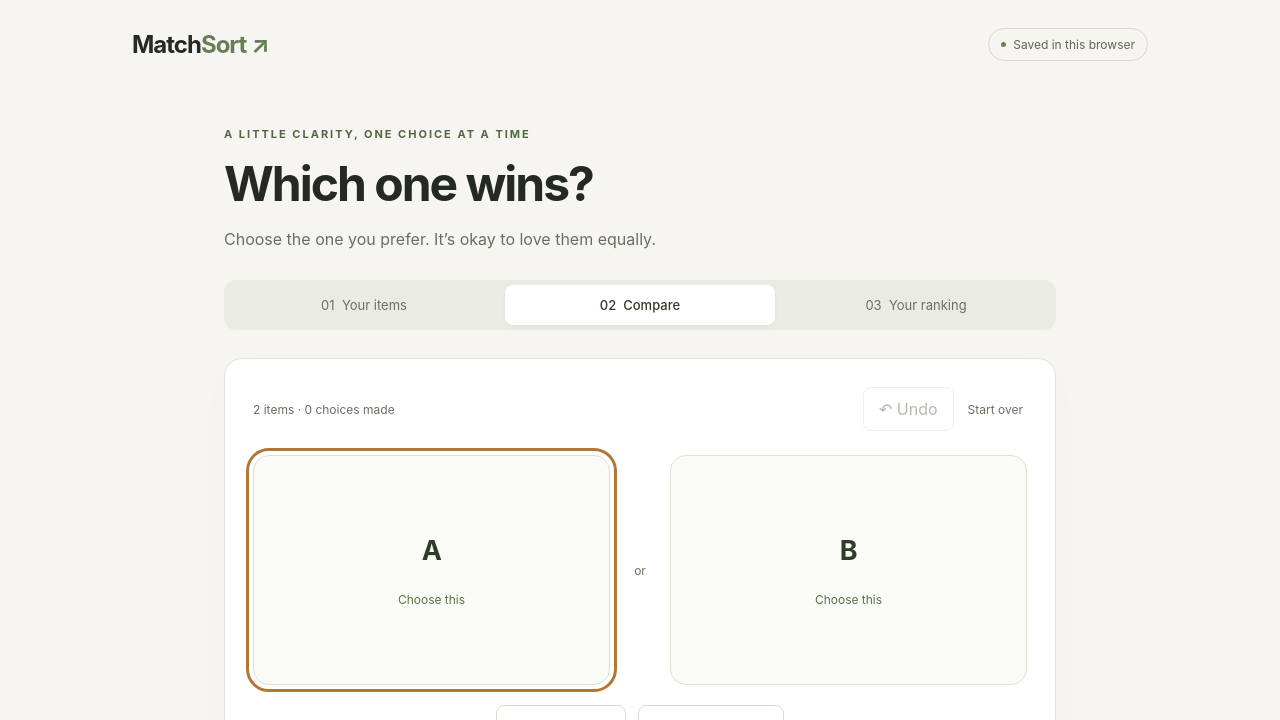
confirms restart, returns focus on cancel, and retains the editable list
The width and height of the screenshot is (1280, 720).
Click the button "Start over". click: x=995, y=409
box: [964,387,1027,431]
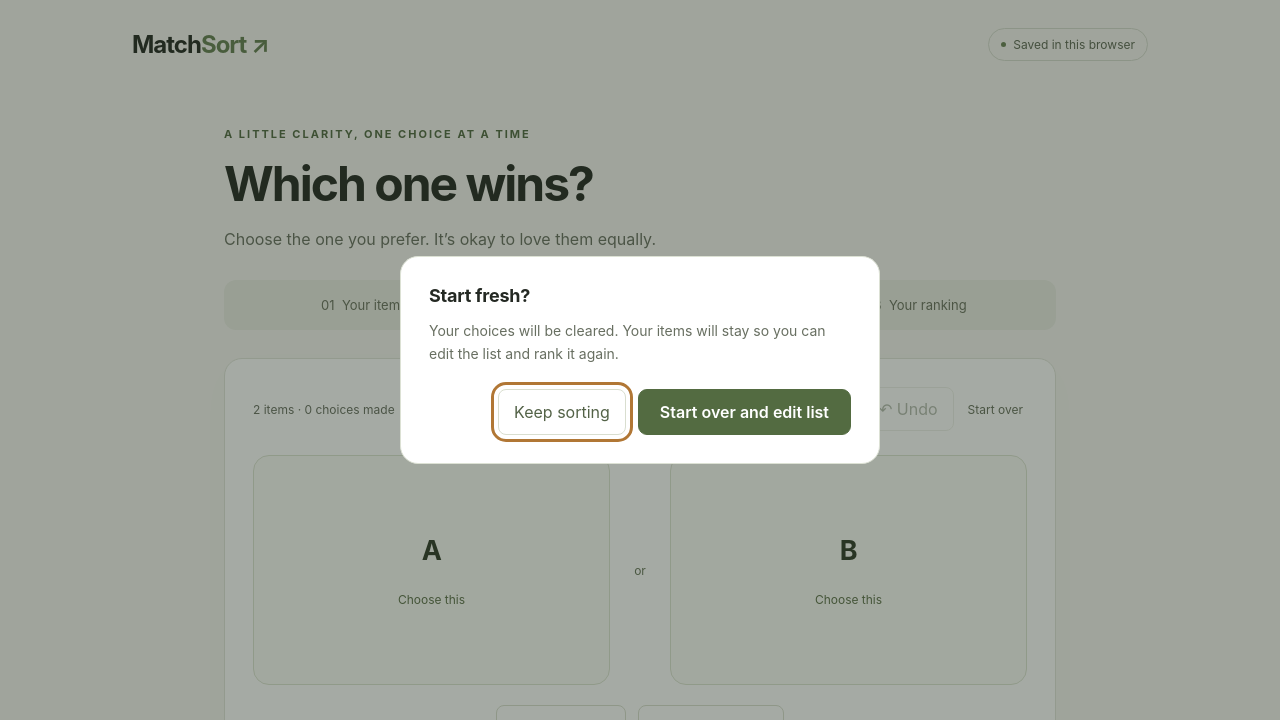
Expected: the dialog is shown, [400,256,880,464]
Press Escape
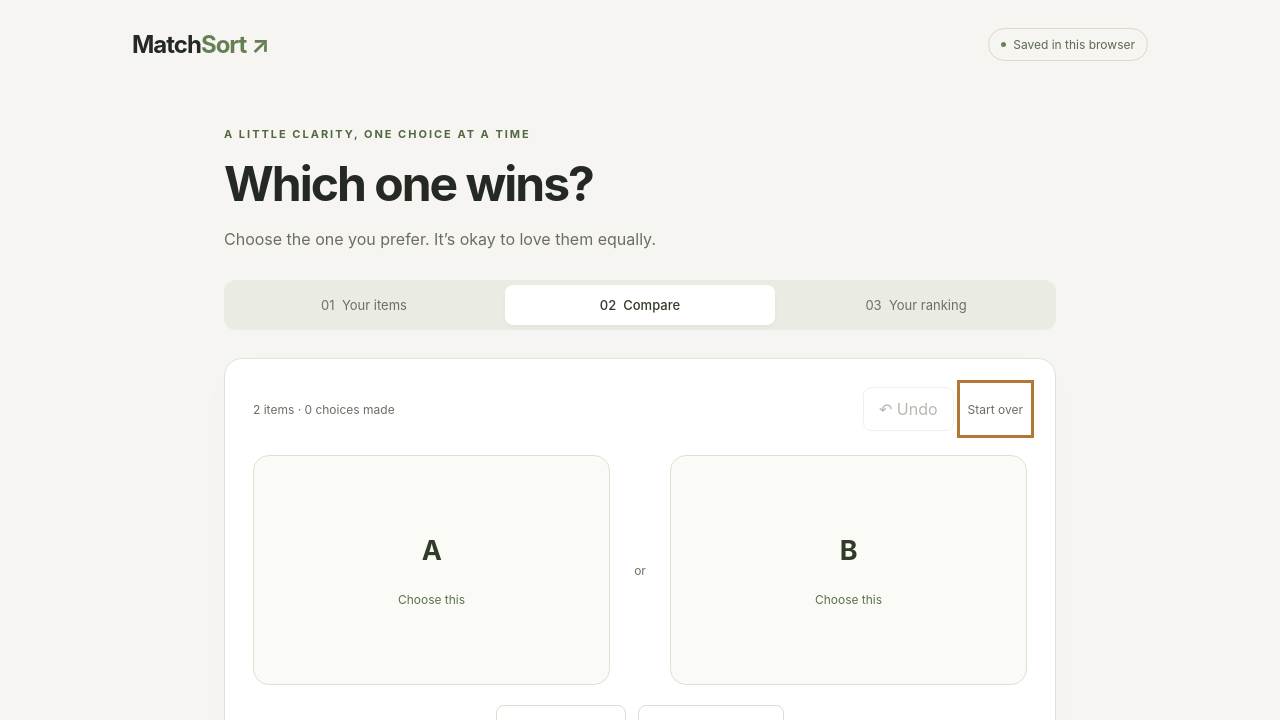
Expected: the dialog is gone
Click the button "Start over". click: x=995, y=409
box: [964,387,1027,431]
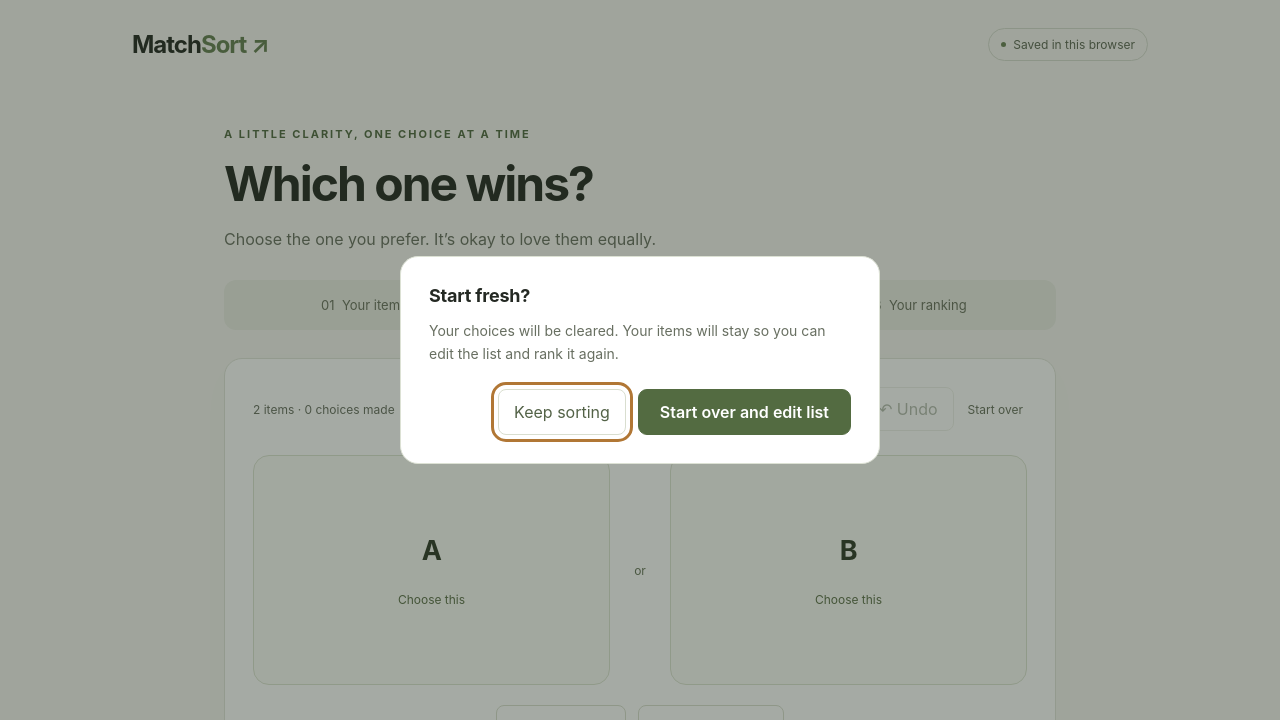
Click the button "Start over and edit list". click: x=744, y=412
box: [638,389,851,435]
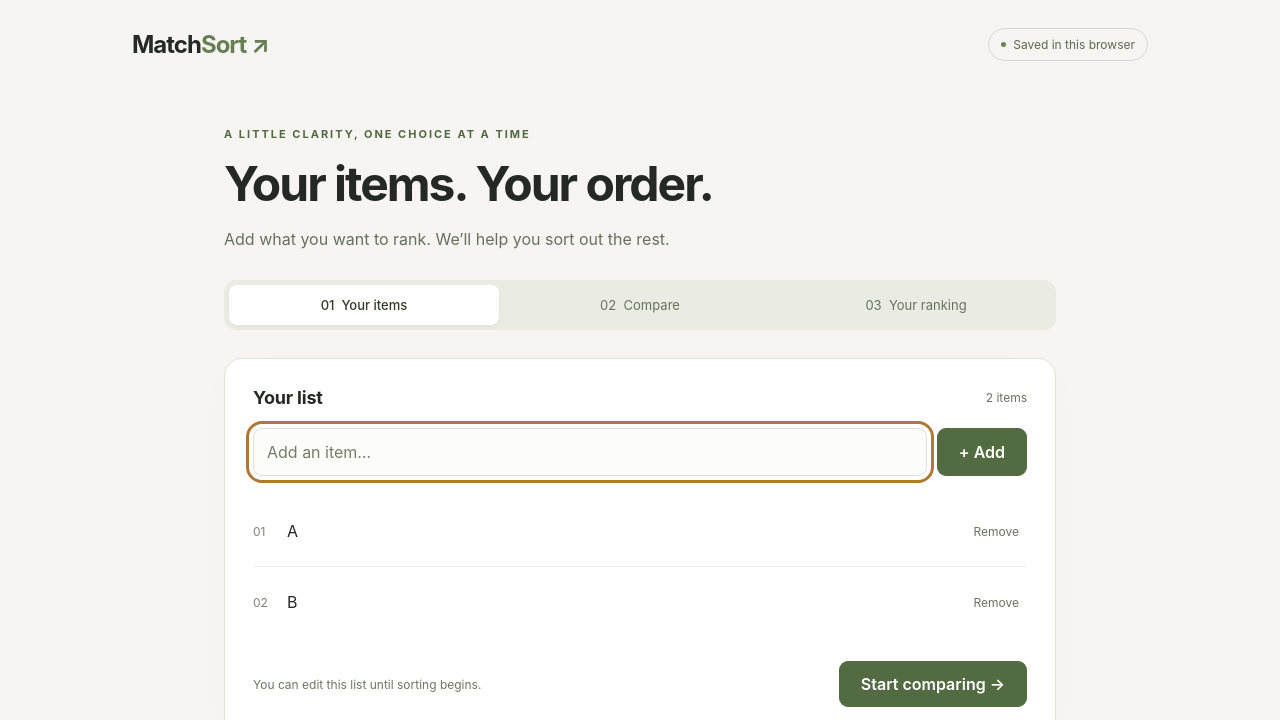
Expected: the text "A" is shown, [287,521,298,541]
Expected: the field named "New item" is shown, [253,428,927,476]
